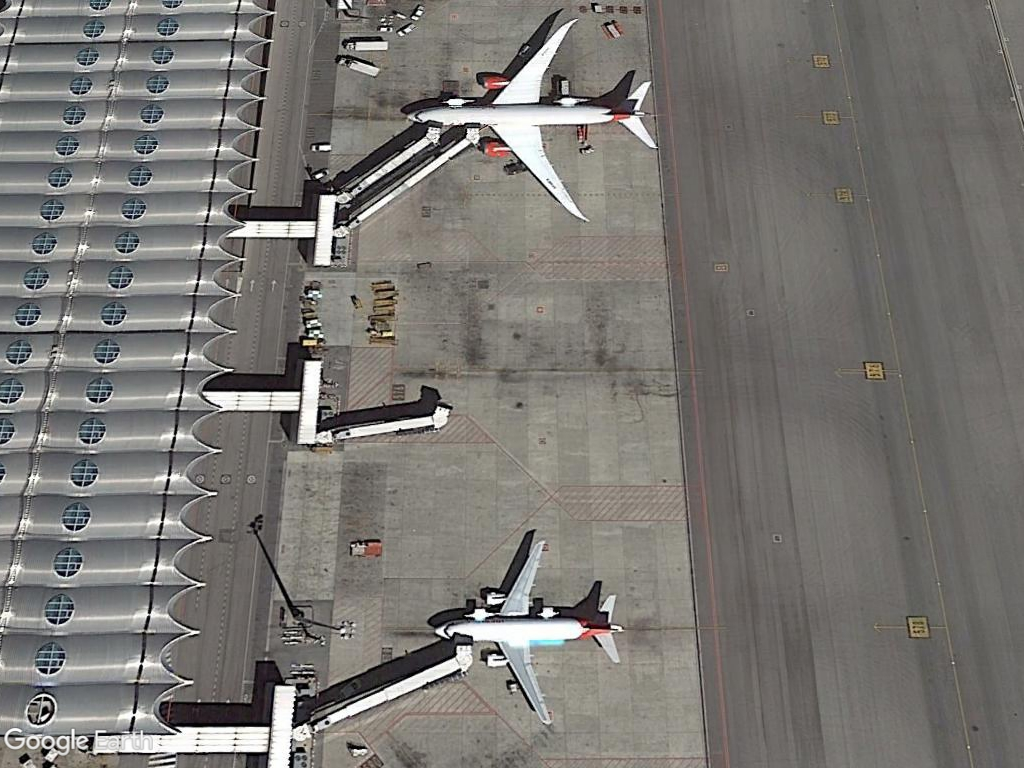airliner: (408, 16, 663, 227), (434, 539, 626, 728)
truck: (342, 40, 393, 53)
